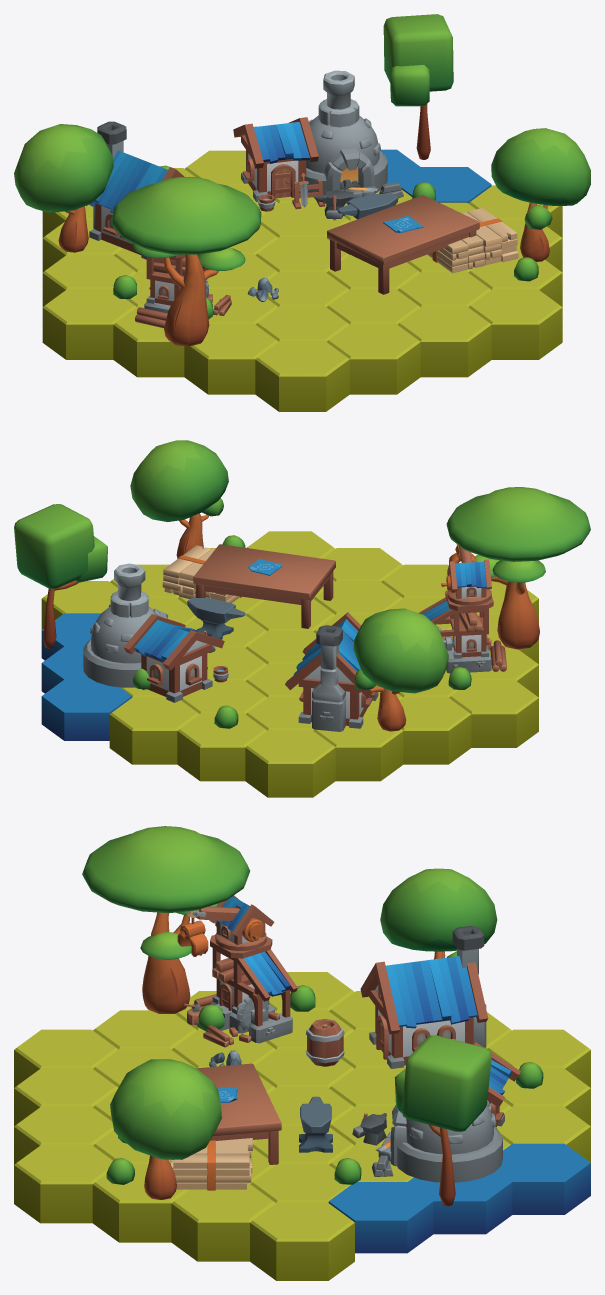
Rendered from village-workshop.glb.
The picture shows the model from 3 angles, top to bottom: view 1: azimuth 30°, elevation 25°; view 2: azimuth 150°, elevation 25°; view 3: azimuth 270°, elevation 25°; orthographic projection. The views are drawn at different scales.
Visible parts, largest first — view 1: hex_grass (×25), Tree_1_A_Color1 (×2), building_blacksmith_blue, Tree_3_A_Color1, table_medium_long, Tree_2_A_Color1, building_home_A_blue, Wood_Planks_Stack_Medium, hex_water (×2), building_lumbermill_blue, anvil; view 2: hex_grass (×25), Tree_1_A_Color1 (×2), Tree_3_A_Color1, building_blacksmith_blue, hex_water (×3), Tree_2_A_Color1, building_home_A_blue, table_medium_long, building_lumbermill_blue, building_lumbermill_top_blue, Wood_Planks_Stack_Medium, anvil; view 3: hex_grass (×25), Tree_1_A_Color1 (×2), hex_water (×3), Tree_3_A_Color1, building_home_A_blue, building_blacksmith_blue, Tree_2_A_Color1, building_lumbermill_blue, table_medium_long, building_lumbermill_top_blue, Wood_Planks_Stack_Medium, Bush_1_A_Color1 (×3) (+2 smaller).
Part boxes in pixels (box(x1,y1,x2,y2)): hex_grass (×25): box(42, 150, 562, 411); Tree_1_A_Color1 (×2): box(14, 124, 590, 261); building_blacksmith_blue: box(233, 70, 403, 220); Tree_3_A_Color1: box(112, 177, 261, 346); table_medium_long: box(327, 195, 479, 294); Tree_2_A_Color1: box(383, 14, 453, 159); building_home_A_blue: box(86, 121, 184, 259); Wood_Planks_Stack_Medium: box(427, 208, 518, 273); hex_water (×2): box(380, 149, 491, 203); building_lumbermill_blue: box(135, 254, 231, 327); anvil: box(337, 193, 398, 219); hex_grass (×25): box(41, 531, 538, 797); Tree_1_A_Color1 (×2): box(130, 440, 448, 731); Tree_3_A_Color1: box(446, 487, 590, 649); building_blacksmith_blue: box(83, 563, 228, 702); hex_water (×3): box(41, 613, 132, 740); Tree_2_A_Color1: box(14, 504, 107, 648); building_home_A_blue: box(285, 612, 378, 731); table_medium_long: box(193, 544, 335, 628); building_lumbermill_blue: box(419, 590, 506, 673); building_lumbermill_top_blue: box(441, 544, 491, 605); Wood_Planks_Stack_Medium: box(162, 545, 241, 603); anvil: box(187, 598, 245, 639); hex_grass (×25): box(14, 972, 590, 1280); Tree_1_A_Color1 (×2): box(110, 868, 497, 1199); hex_water (×3): box(328, 1143, 590, 1253); Tree_3_A_Color1: box(82, 826, 249, 1013); building_home_A_blue: box(360, 926, 488, 1068); building_blacksmith_blue: box(352, 1039, 520, 1182); Tree_2_A_Color1: box(394, 1035, 491, 1206); building_lumbermill_blue: box(183, 935, 297, 1047); table_medium_long: box(197, 1063, 281, 1164); building_lumbermill_top_blue: box(177, 895, 274, 956); Wood_Planks_Stack_Medium: box(170, 1138, 252, 1190); Bush_1_A_Color1 (×3): box(106, 1062, 543, 1184).
Size of the model in its own units: 14 by 5.2 by 12.7.
16 materials, 16 textured.
